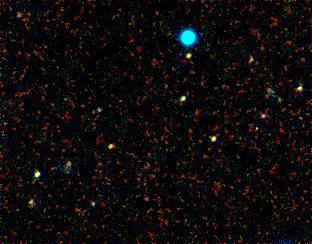star: (8, 2, 38, 32)
